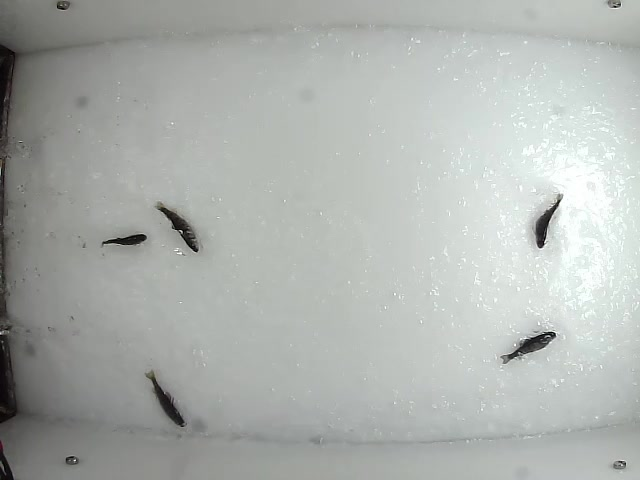fish: (152, 199, 200, 252), (145, 369, 187, 429), (497, 329, 558, 367), (531, 190, 567, 250), (100, 229, 150, 249)
